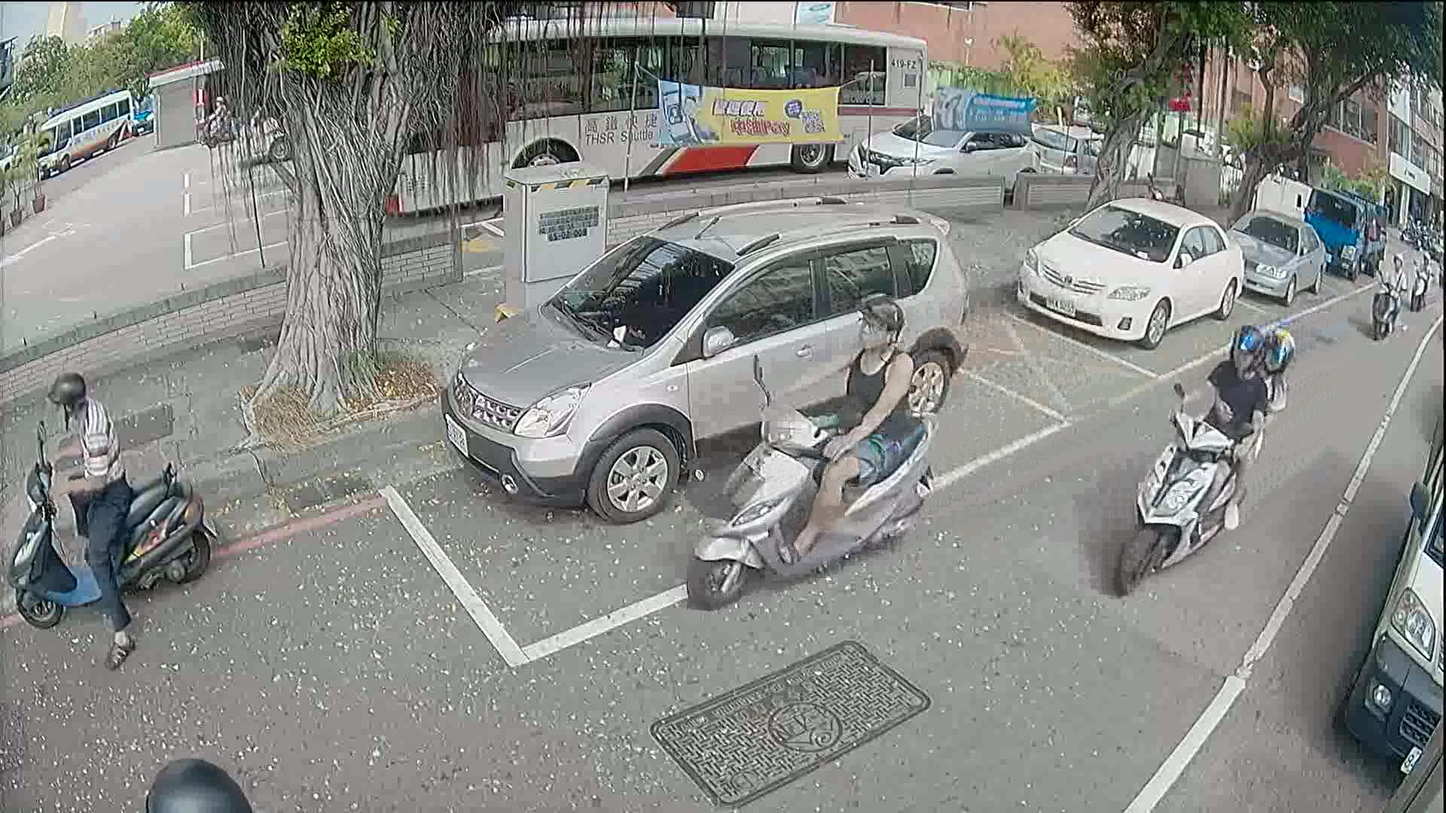person: (755, 285, 926, 562), (37, 354, 133, 671), (1161, 318, 1271, 532), (1204, 329, 1298, 516), (143, 751, 257, 812), (1380, 252, 1408, 331), (207, 93, 227, 137), (1417, 248, 1434, 282)
